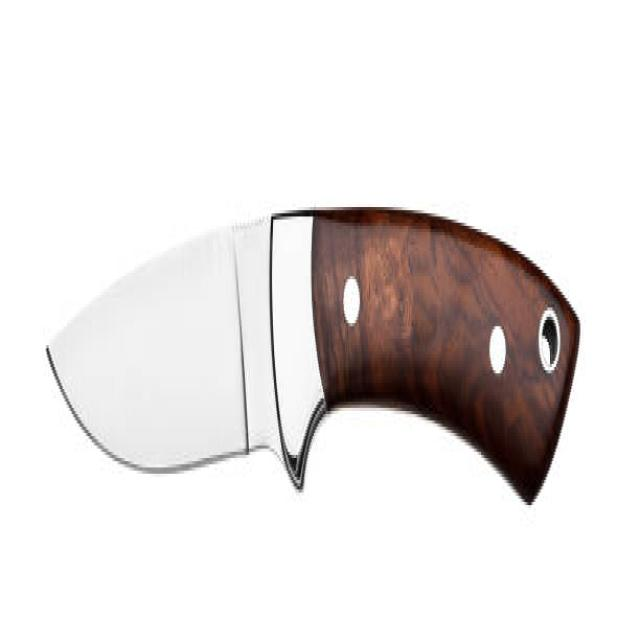knife: (43, 198, 585, 541)
